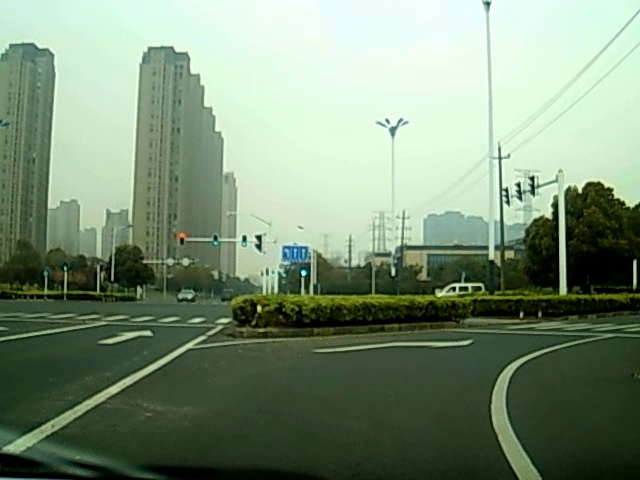Traffic_Light_go: (211, 233, 220, 249), (298, 268, 309, 278), (240, 234, 247, 248)
Traffic_Light_stop: (177, 231, 186, 247)
